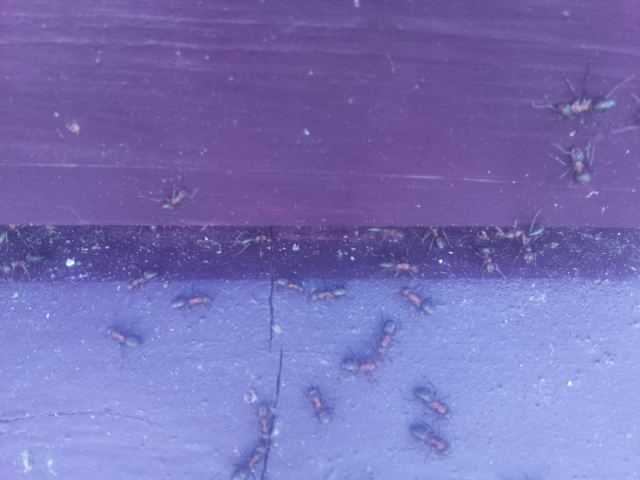ant: (235, 398, 291, 477), (363, 314, 406, 369), (552, 91, 616, 124), (403, 423, 451, 455), (307, 380, 336, 431), (408, 383, 449, 419), (393, 285, 439, 317), (567, 139, 595, 187), (308, 284, 351, 304), (126, 269, 160, 293), (159, 188, 190, 211), (478, 240, 496, 279), (374, 259, 420, 274), (274, 277, 304, 293)
